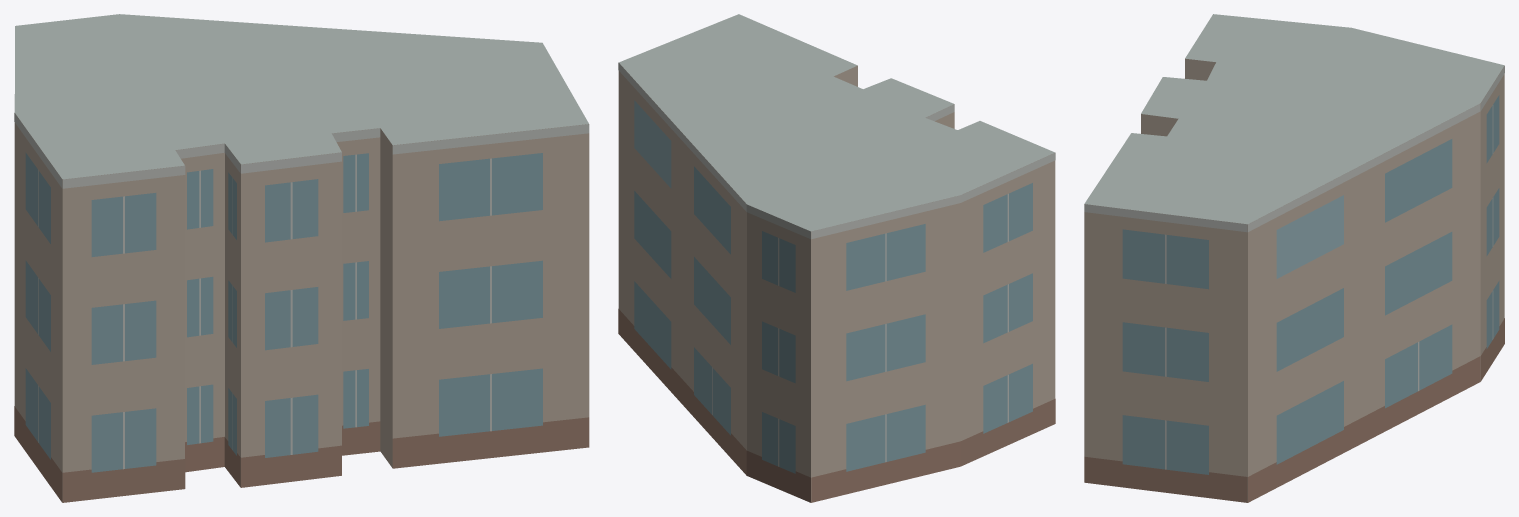
Rendered from survey-upis-32896133.glb.
3 views of the same model, side by side, from view 1: azimuth 30°, elevation 25°; view 2: azimuth 150°, elevation 25°; view 3: azimuth 270°, elevation 25° (orthographic). The views are drawn at different scales.
Parts seen in each view (by area): view 1: survey-upis-32896133.tmp; view 2: survey-upis-32896133.tmp; view 3: survey-upis-32896133.tmp.
Boxes of the visible parts, bbox=[...] form: survey-upis-32896133.tmp: bbox=[14, 14, 589, 502]; survey-upis-32896133.tmp: bbox=[618, 14, 1055, 502]; survey-upis-32896133.tmp: bbox=[1084, 14, 1504, 502].
Size of the model in its own units: 13.72 by 8.47 by 11.6.
